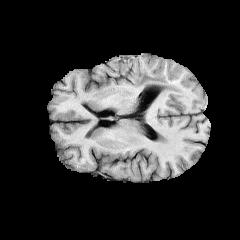glioma: (133, 70, 182, 93)
